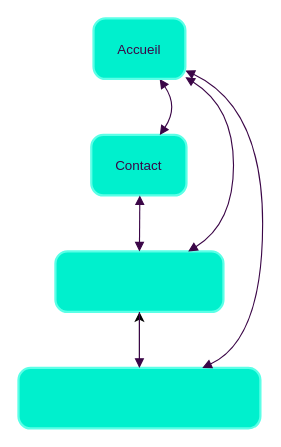
This 281x447 diagram has some shape labels left out. Here are the shapes that lost their labels. From the top down, the box of each, then its label:
(54, 250, 224, 312): Mentions légales
(17, 366, 261, 429): Politique de confidentialité
